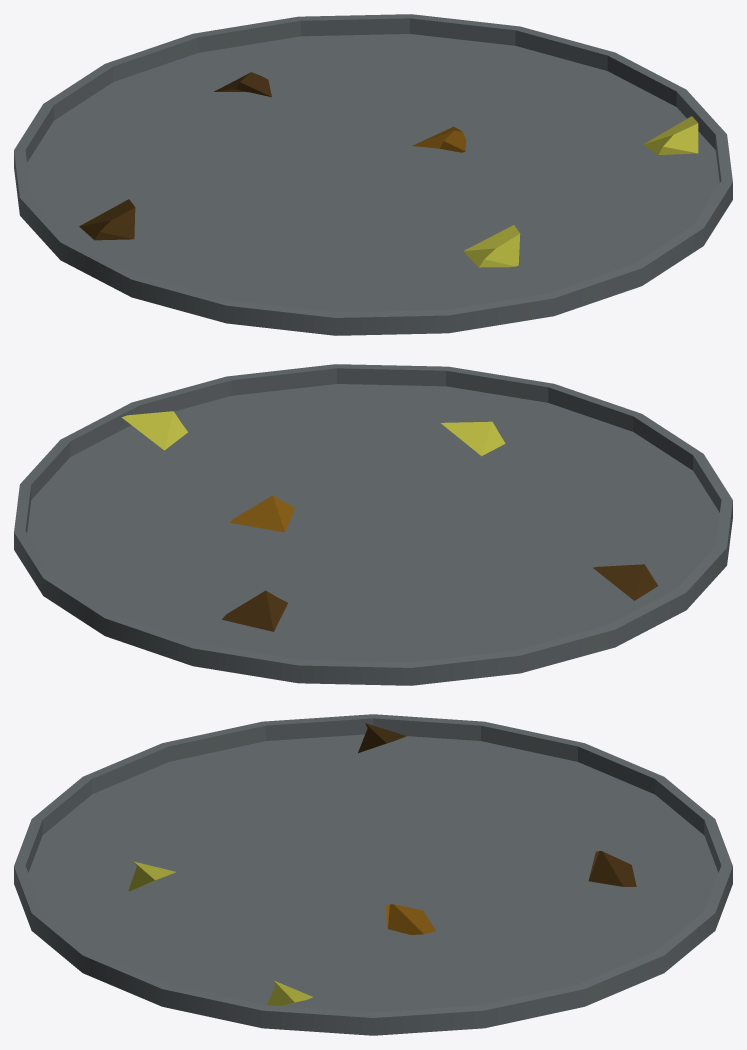
The model's file is PROP_CupCakeDirtyPlate.fbx.
3 renders of one model, top to bottom at view 1: azimuth 30°, elevation 25°; view 2: azimuth 150°, elevation 25°; view 3: azimuth 270°, elevation 25°, orthographic.
Visible parts, largest first — view 1: PROP_CupCakeDirtyPlate; view 2: PROP_CupCakeDirtyPlate; view 3: PROP_CupCakeDirtyPlate.
Part boxes in pixels (left/top/right/bottom): PROP_CupCakeDirtyPlate: left=14, top=14, right=732, bottom=335; PROP_CupCakeDirtyPlate: left=14, top=364, right=732, bottom=685; PROP_CupCakeDirtyPlate: left=14, top=714, right=732, bottom=1035.
Bounding box in the file's own units: 0.0186 × 0.000955 × 0.0186.
